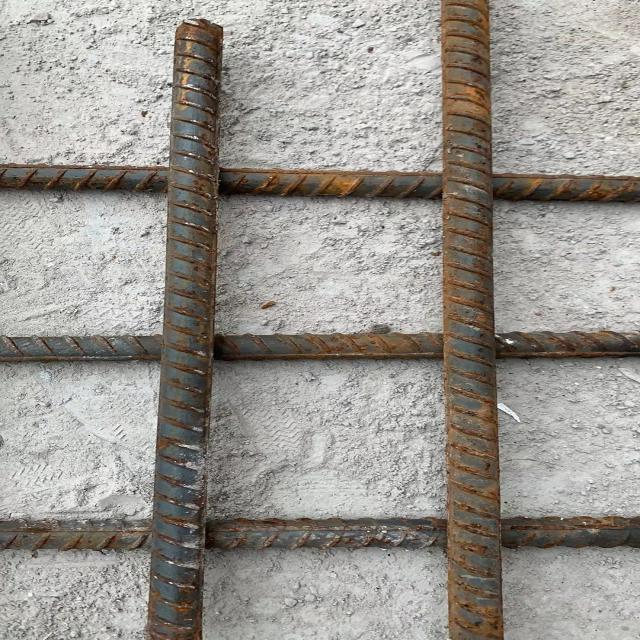ribbed bar: (146, 20, 223, 639), (438, 0, 508, 639), (0, 163, 639, 204), (0, 515, 639, 550), (0, 331, 639, 364)
